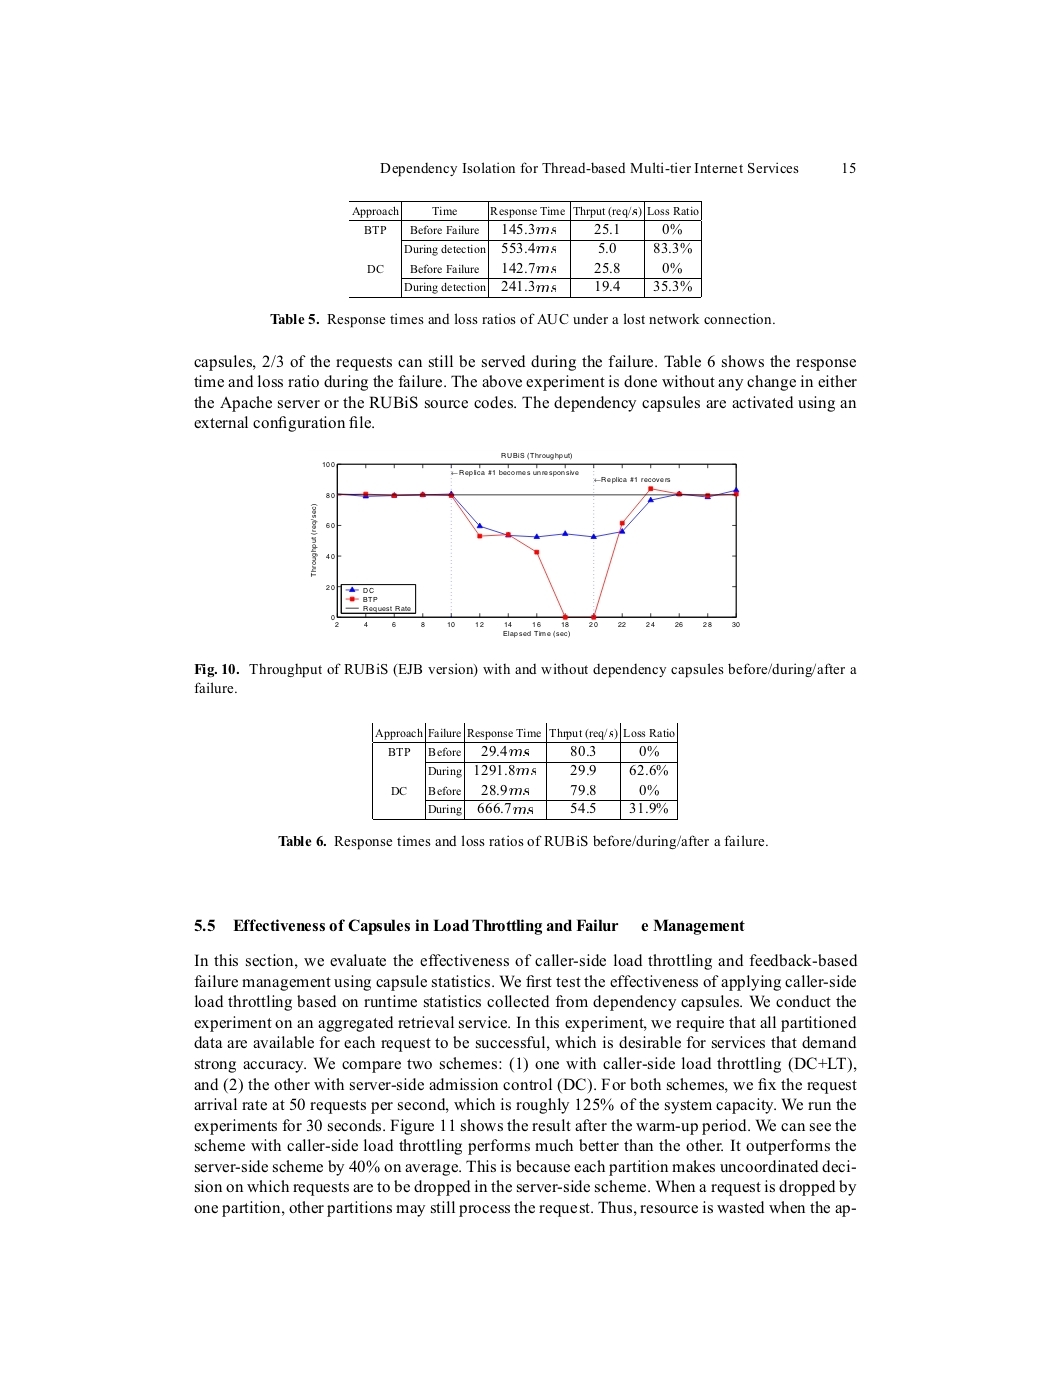Table: (349, 199, 701, 298), (372, 722, 676, 820)
figure: (310, 452, 739, 637)
